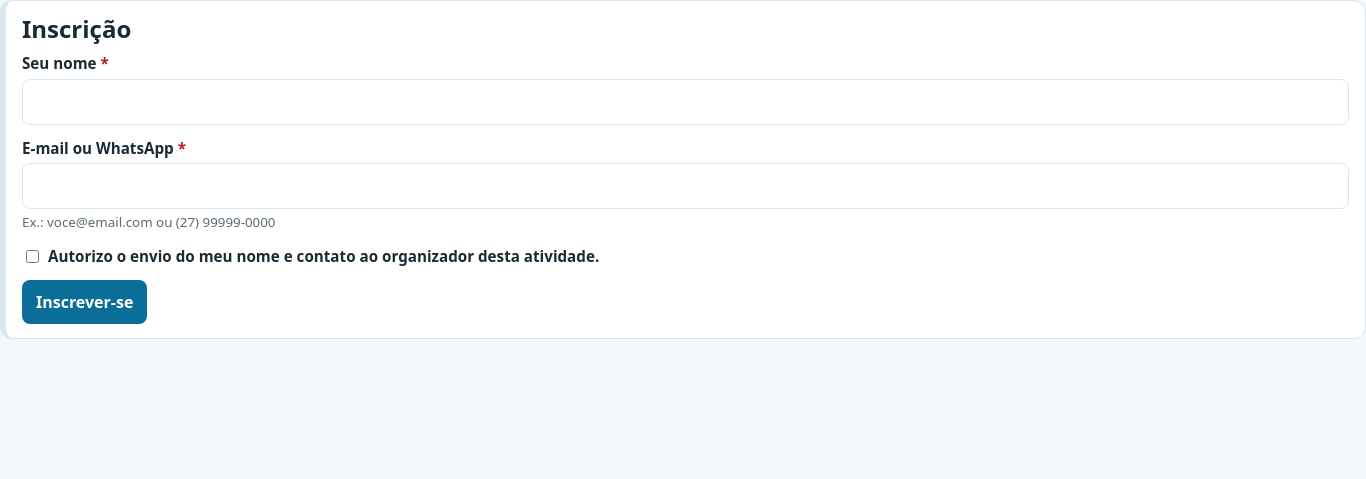
it: convite após a inscrição › a confirmação da inscrição convida a avaliar
This screenshot has width=1366, height=479.
In the field labelled "Seu nome *": (686, 102) left=22, top=79, right=1349, bottom=125, type "Bia"
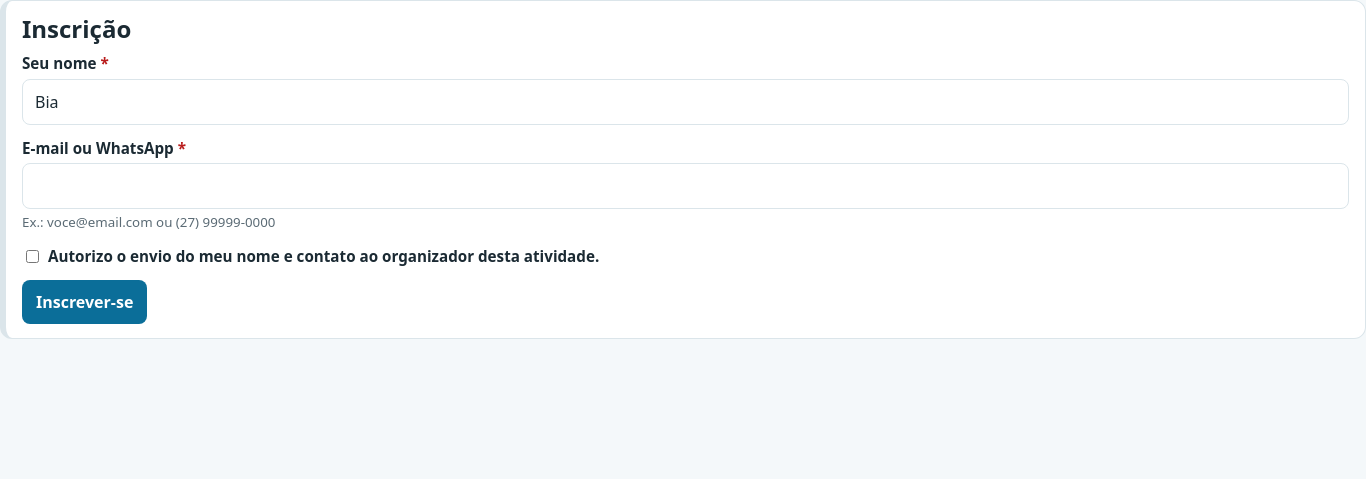
In the field labelled "E-mail ou WhatsApp *": (686, 186) left=22, top=163, right=1349, bottom=209, type "bia@exemplo.com"
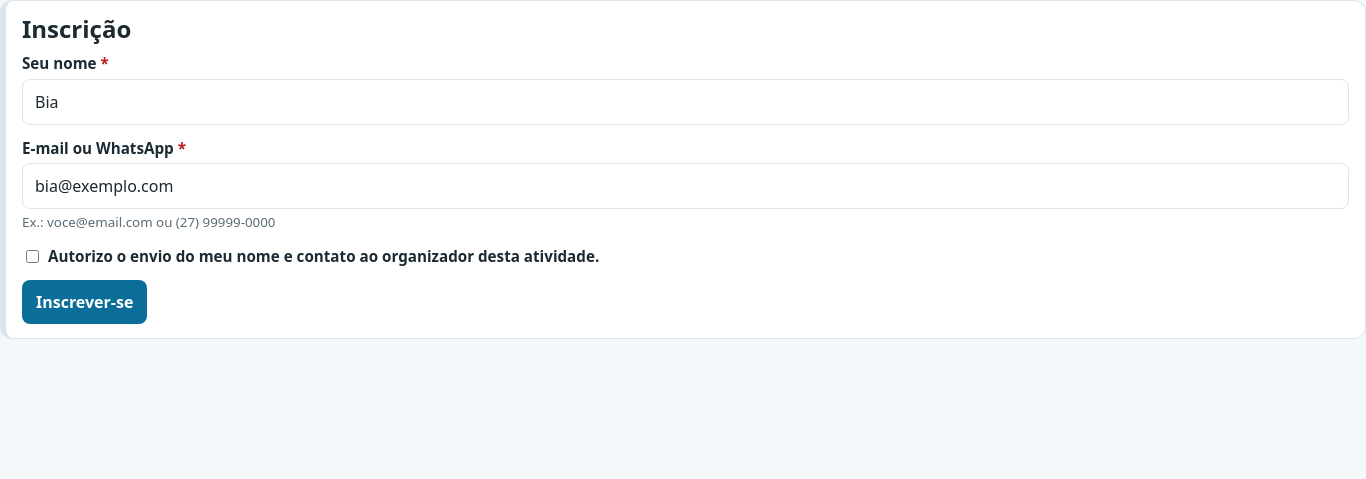
Click the checkbox labelled "Autorizo": (32, 257) left=26, top=250, right=39, bottom=263
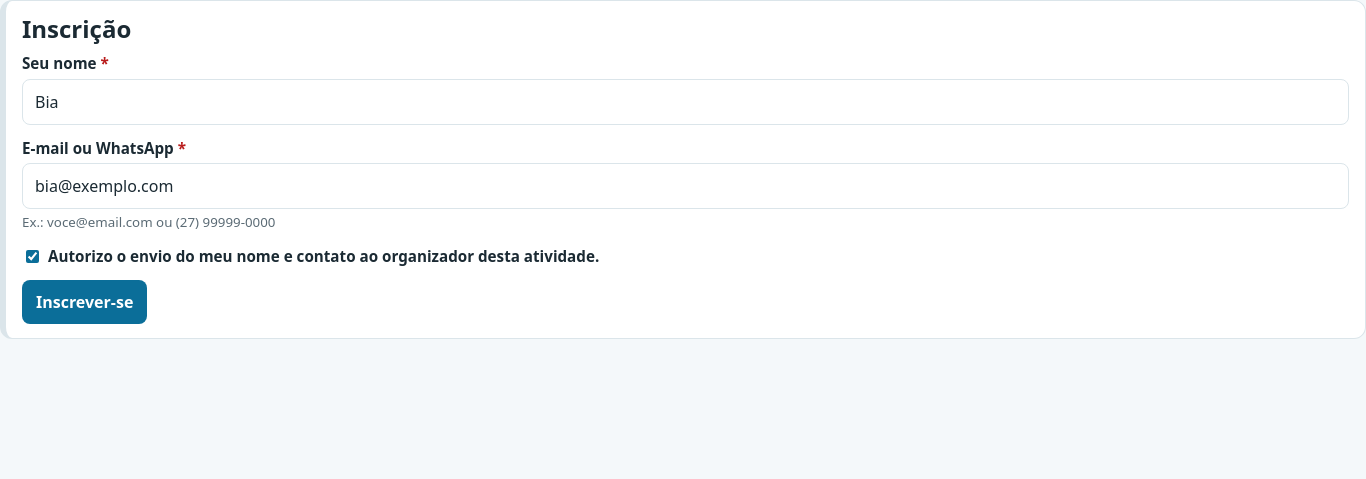
Click the button "Inscrever-se": (85, 302) left=22, top=280, right=147, bottom=324
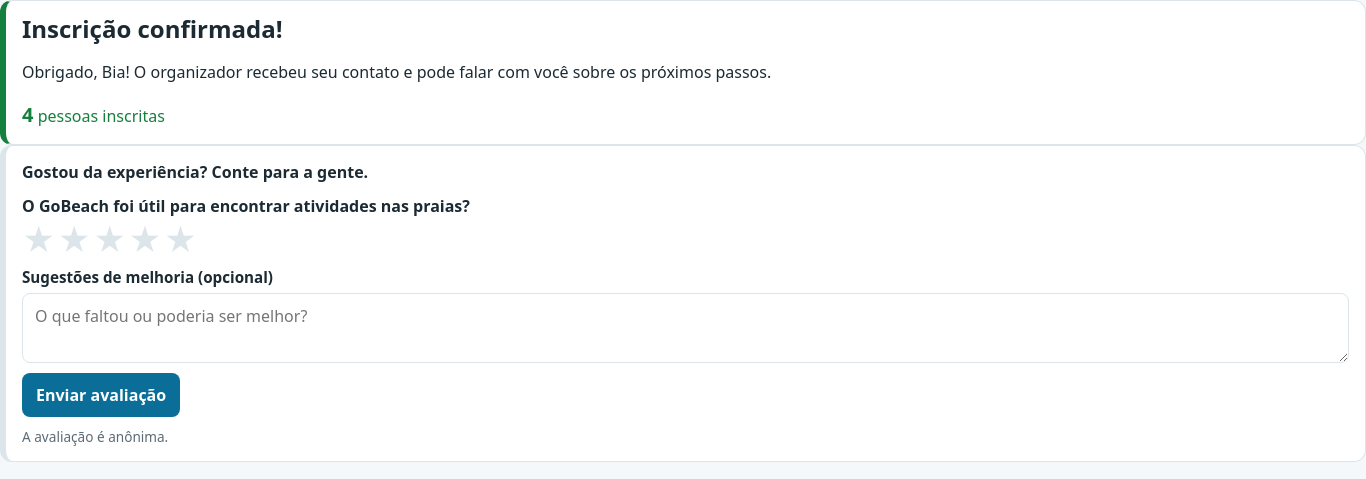
Expected: the heading "Inscrição confirmada!" is shown, left=22, top=12, right=283, bottom=45
Expected: the text "Gostou da experiência? Conte para a gente." is shown, left=22, top=161, right=368, bottom=183
